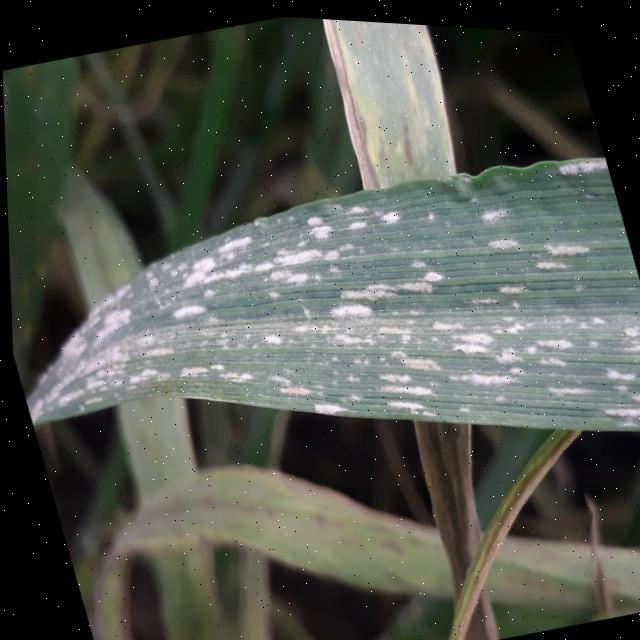powder_mildew: (3, 100, 640, 584), (50, 425, 447, 640), (460, 459, 640, 640), (311, 14, 466, 179)
